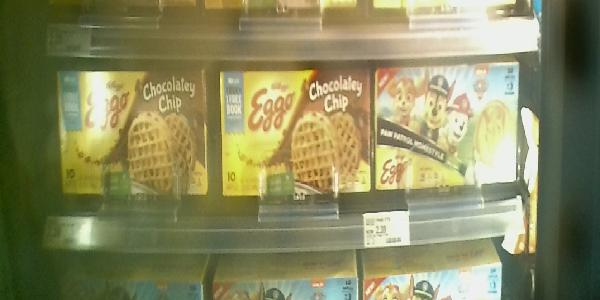icecream: (44, 60, 211, 203), (220, 71, 370, 192), (374, 67, 521, 186)
